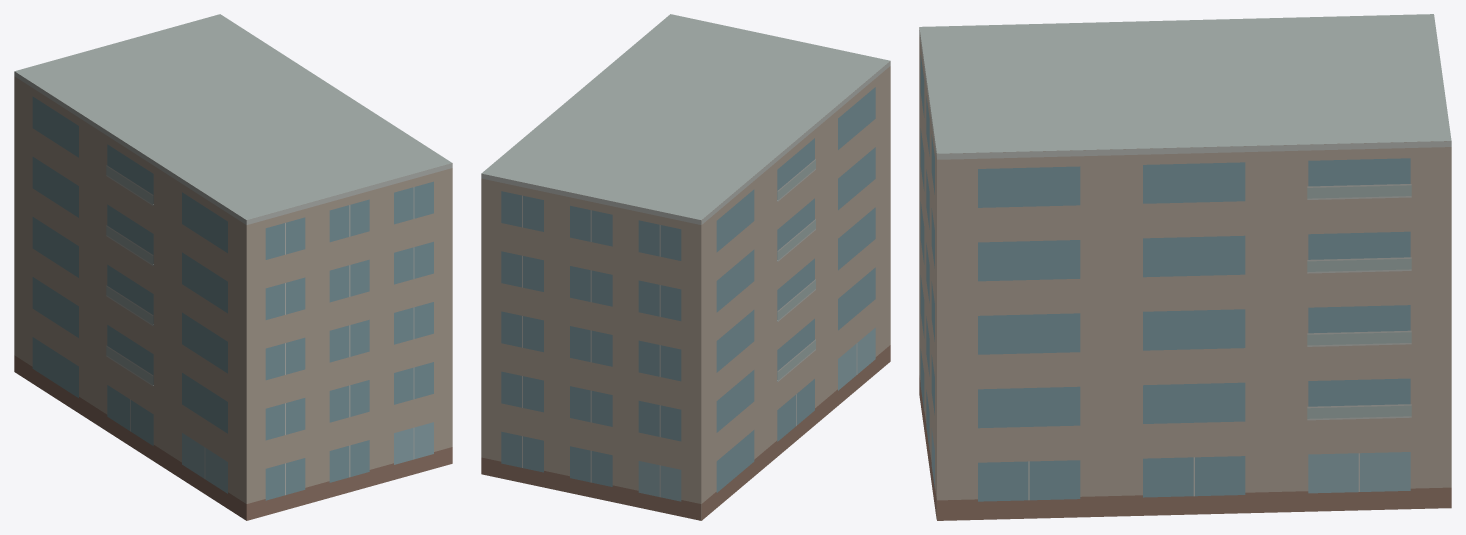
The model's file is survey-upis-32956052.glb.
The picture shows the model from 3 angles, left to right: view 1: azimuth 30°, elevation 25°; view 2: azimuth 150°, elevation 25°; view 3: azimuth 270°, elevation 25°; orthographic projection. The views are drawn at different scales.
Visible parts, largest first — view 1: survey-upis-32956052.tmp; view 2: survey-upis-32956052.tmp; view 3: survey-upis-32956052.tmp.
Boxes of the visible parts, x1,y1,x2,y2 form: survey-upis-32956052.tmp: [14, 14, 452, 520]; survey-upis-32956052.tmp: [481, 14, 890, 520]; survey-upis-32956052.tmp: [919, 14, 1451, 520].
Size of the model in its own units: 12.09 by 14.8 by 19.46.
